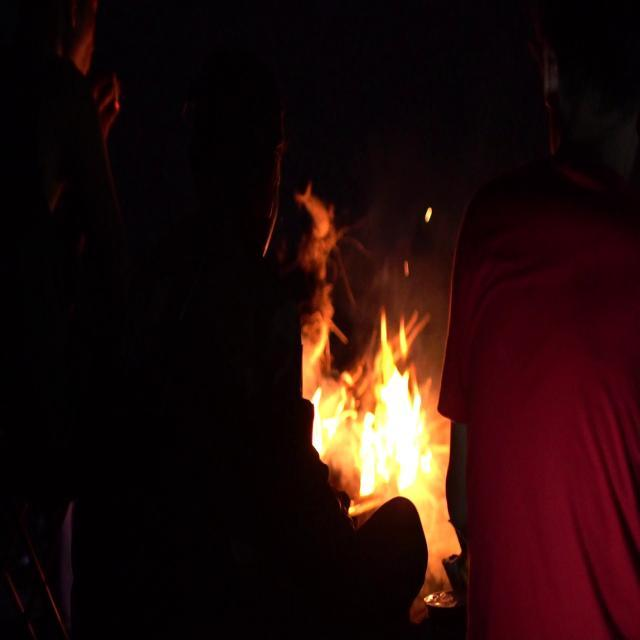Fire: (298, 300, 439, 500)
